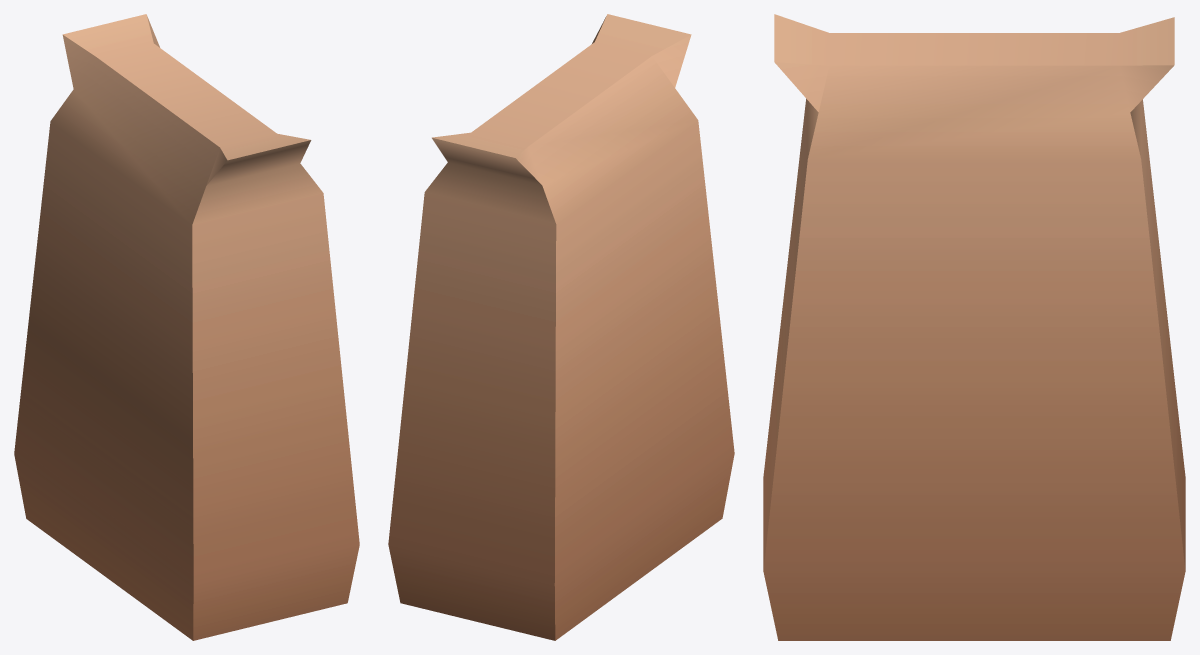
Rendered from bag.glb.
The picture shows the model from 3 angles, left to right: view 1: azimuth 30°, elevation 25°; view 2: azimuth 150°, elevation 25°; view 3: azimuth 270°, elevation 25°; orthographic projection. The views are drawn at different scales.
Parts seen in each view (by area): view 1: bag; view 2: bag; view 3: bag.
Boxes of the visible parts, <box> form: bag: <box>14,14,359,640</box>; bag: <box>388,14,734,640</box>; bag: <box>763,14,1185,640</box>.
Bounding box in the file's own units: 0.2201 × 0.5998 × 0.4118.
Materials: 1 (1 with a texture image).
